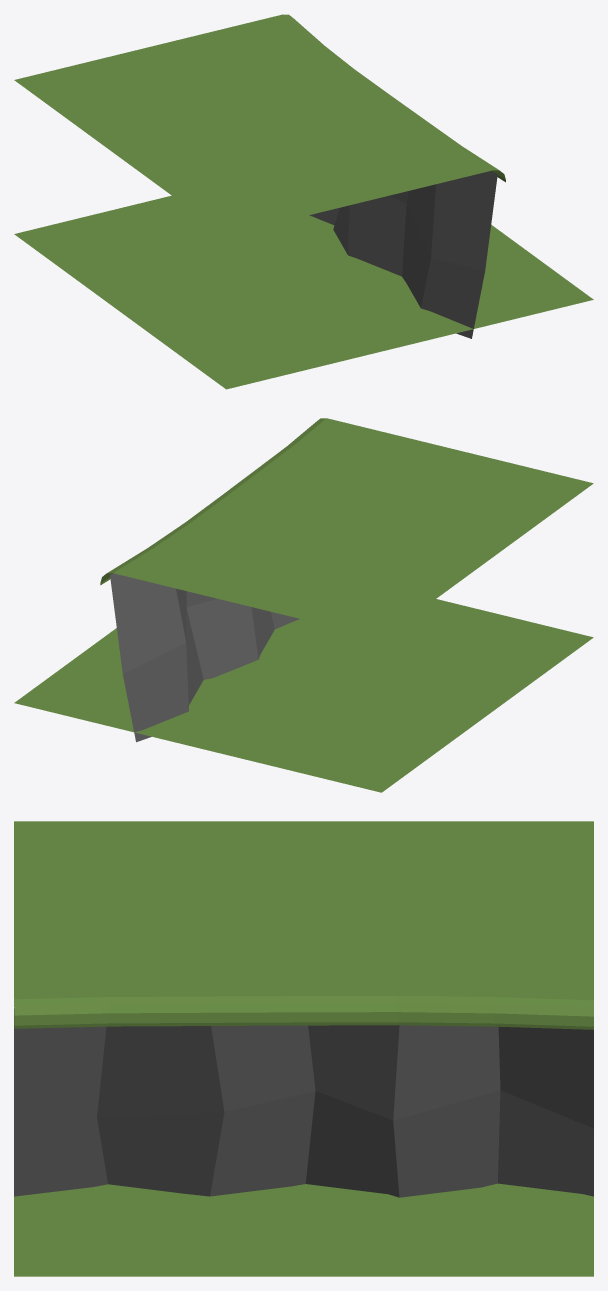
Rendered from cliff.fbx.
3 renders of one model, top to bottom at view 1: azimuth 30°, elevation 25°; view 2: azimuth 150°, elevation 25°; view 3: azimuth 270°, elevation 25°, orthographic. The views are drawn at different scales.
Parts seen in each view (by area): view 1: Plane.029; view 2: Plane.029; view 3: Plane.029.
Boxes of the visible parts, x1,y1,x2,y2 form: Plane.029: [14, 14, 593, 389]; Plane.029: [14, 418, 593, 792]; Plane.029: [14, 821, 593, 1276].
Bounding box in the file's own units: 200 × 200 × 86.42.
